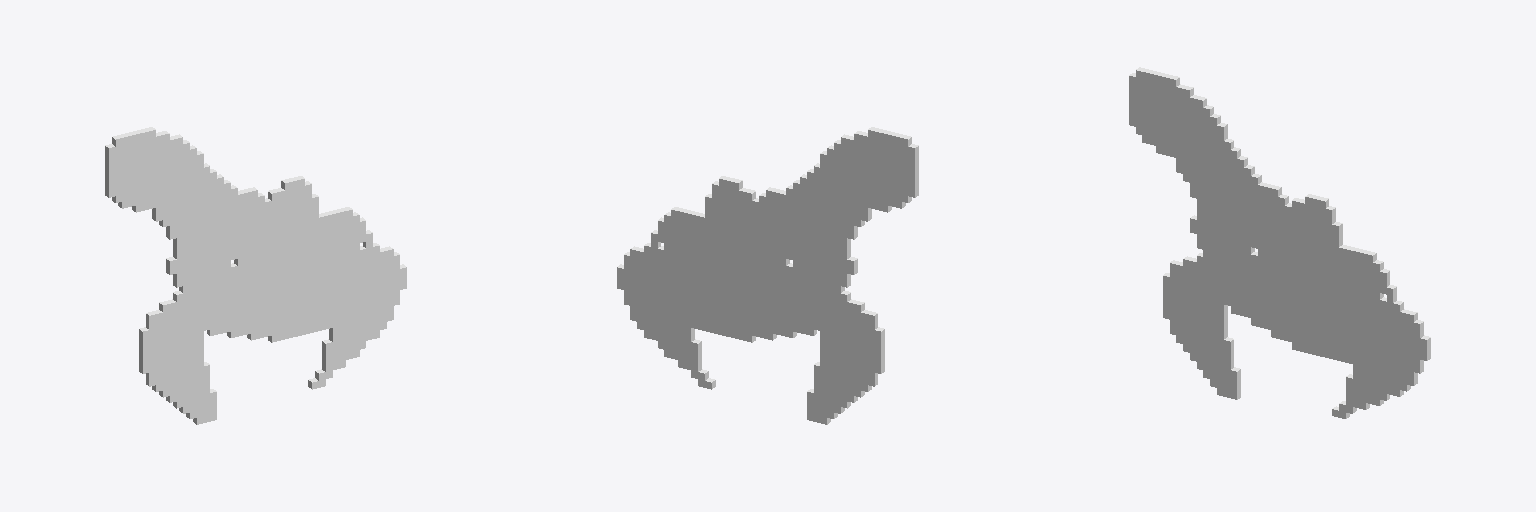
The model's file is atmboss_lefthand-1.obj.
3 renders of one model, left to right at view 1: azimuth 30°, elevation 25°; view 2: azimuth 150°, elevation 25°; view 3: azimuth 330°, elevation 25°, orthographic.
Parts seen in each view (by area): view 1: object 1; view 2: object 1; view 3: object 1.
Boxes of the visible parts, x1=… form: object 1: x1=105, y1=127, x2=406, y2=424; object 1: x1=617, y1=127, x2=918, y2=424; object 1: x1=1129, y1=67, x2=1430, y2=418.
Bounding box in the file's own units: 4.4 × 4.3 × 0.1.